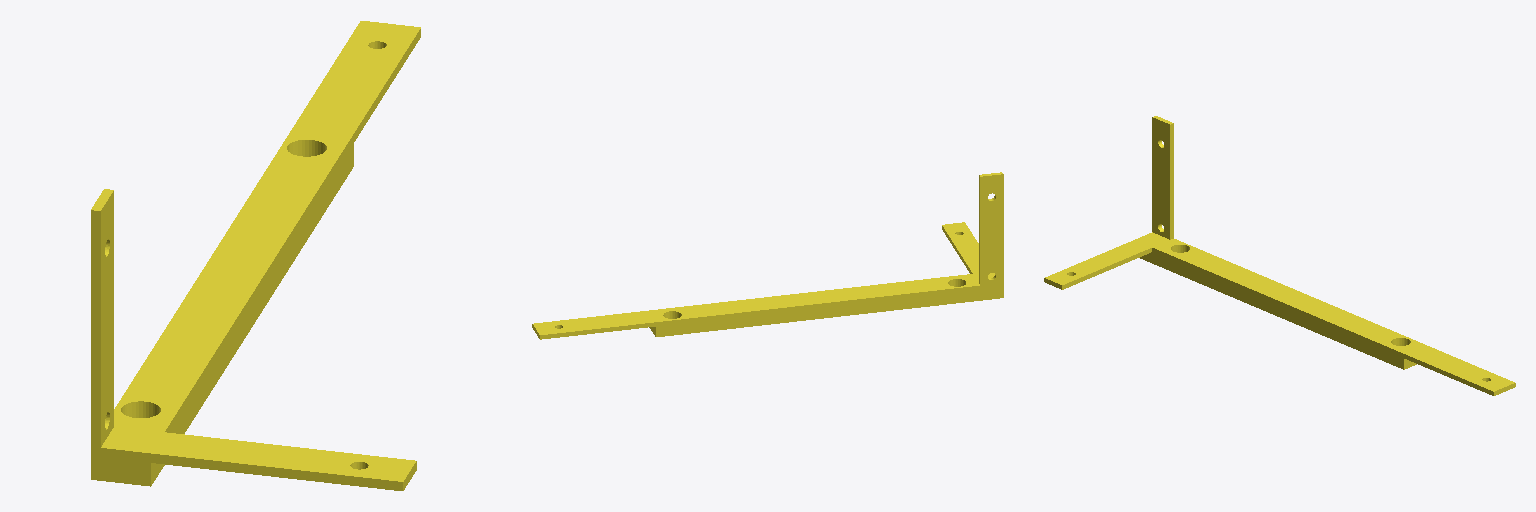
URDF robot description (lbr_iiwa):
<?xml version="1.0" ?>
<robot name="lbr_iiwa" xmlns:xacro="http://www.ros.org/wiki/xacro">
  <!-- Import Rviz colors -->
  <material name="Grey">
    <color rgba="0.2 0.2 0.2 1.0"/>
  </material>
  <material name="Orange">
    <color rgba="1.0 0.423529411765 0.0392156862745 1.0"/>
  </material>
  <material name="Blue">
  <color rgba="0.5 0.7 1.0 1.0"/>      
</material>

  <!--Import the lbr iiwa macro -->
  <!--Import Transmissions -->
  <!--Include Utilities -->
  <!--The following macros are adapted from the LWR 4 definitions of the RCPRG - https://github.com/RCPRG-ros-pkg/lwr_robot -->
  <!--Little helper macros to define the inertia matrix needed for links.-->
  <!--Cuboid-->
  <!--Cylinder: length is along the y-axis! -->
  <!--lbr-->
  <link name="base_link" />

  <joint name="base_link_to_chassis" type="fixed">
    <parent link="base_link"/>
    <child link="lbr_iiwa_link_0"/>
    <origin rpy="0 0 0.7854" xyz="-0.8839 0.3889 -0.42"/>
    <!-- RobotFrame rpy="0 0 0" xyz="-0.35 0.84 -0.42" -->
  </joint>


  <link name="lbr_iiwa_link_0">
    <visual>
      <origin rpy="0 0 0" xyz="0 0 0"/>
      <geometry>
        <mesh filename="meshes_kuka_iiwa/link_0.stl"/>
      </geometry>
      <material name="Grey"/>
    </visual>
    <collision>
      <origin rpy="0 0 0" xyz="0 0 0"/>
      <geometry>
        <mesh filename="meshes_kuka_iiwa/link_0.stl"/>
      </geometry>
    </collision>
  </link>

  <!-- joint between link_0 and link_1 -->
  <joint name="lbr_iiwa_joint_1" type="revolute">
    <parent link="lbr_iiwa_link_0"/>
    <child link="lbr_iiwa_link_1"/>
    <origin rpy="0 0 0" xyz="0 0 0.1575"/>
    <axis xyz="0 0 1"/>
    <limit effort="300" lower="-2.96705972839" upper="2.96705972839" velocity="10"/>
    <dynamics damping="0.5"/>
  </joint>

  <link name="lbr_iiwa_link_1">
    <inertial>
      <origin rpy="0 0 0" xyz="0 -0.03 0.12"/>
      <mass value="4"/>
      <inertia ixx="0.1" ixy="0" ixz="0" iyy="0.09" iyz="0" izz="0.02"/>
    </inertial>
    <visual>
      <origin rpy="0 0 0" xyz="0 0 0"/>
      <geometry>
        <mesh filename="meshes_kuka_iiwa/link_1.stl"/>
      </geometry>
      <material name="Blue"/>
    </visual>
    <collision>
      <origin rpy="0 0 0" xyz="0 0 0"/>
      <geometry>
        <mesh filename="meshes/link_1.stl"/>
      </geometry>
    </collision>
  </link>

  <!-- joint between link_1 and link_2 -->
  <joint name="lbr_iiwa_joint_2" type="revolute">
    <parent link="lbr_iiwa_link_1"/>
    <child link="lbr_iiwa_link_2"/>
    <origin rpy="1.57079632679 0 3.14159265359" xyz="0 0 0.2025"/>
    <axis xyz="0 0 1"/>
    <limit effort="300" lower="-2.09439510239" upper="2.09439510239" velocity="10"/>
    <dynamics damping="0.5"/>
  </joint>

  <link name="lbr_iiwa_link_2">
    <inertial>
      <origin rpy="0 0 0" xyz="0.0003 0.059 0.042"/>
      <mass value="4"/>
      <inertia ixx="0.05" ixy="0" ixz="0" iyy="0.018" iyz="0" izz="0.044"/>
    </inertial>
    <visual>
      <origin rpy="0 0 0" xyz="0 0 0"/>
      <geometry>
        <mesh filename="meshes_kuka_iiwa/link_2.stl"/>
      </geometry>
      <material name="Blue"/>
    </visual>
    <collision>
      <origin rpy="0 0 0" xyz="0 0 0"/>
      <geometry>
        <mesh filename="meshes/link_2.stl"/>
      </geometry>
    </collision>
  </link>

  <!-- joint between link_2 and link_3 -->
  <joint name="lbr_iiwa_joint_3" type="revolute">
    <parent link="lbr_iiwa_link_2"/>
    <child link="lbr_iiwa_link_3"/>
    <origin rpy="1.57079632679 0 3.14159265359" xyz="0 0.2045 0"/>
    <axis xyz="0 0 1"/>
    <limit effort="300" lower="-2.96705972839" upper="2.96705972839" velocity="10"/>
    <dynamics damping="0.5"/>
  </joint>

  <link name="lbr_iiwa_link_3">
    <inertial>
      <origin rpy="0 0 0" xyz="0 0.03 0.13"/>
      <mass value="3"/>
      <inertia ixx="0.08" ixy="0" ixz="0" iyy="0.075" iyz="0" izz="0.01"/>
    </inertial>
    <visual>
      <origin rpy="0 0 0" xyz="0 0 0"/>
      <geometry>
        <mesh filename="meshes_kuka_iiwa/link_3.stl"/>
      </geometry>
      <material name="Orange"/>
    </visual>
    <collision>
      <origin rpy="0 0 0" xyz="0 0 0"/>
      <geometry>
        <mesh filename="meshes_kuka_iiwa/link_3.stl"/>
      </geometry>
    </collision>
  </link>

  <!-- joint between link_3 and link_4 -->
  <joint name="lbr_iiwa_joint_4" type="revolute">
    <parent link="lbr_iiwa_link_3"/>
    <child link="lbr_iiwa_link_4"/>
    <origin rpy="1.57079632679 0 0" xyz="0 0 0.2155"/>
    <axis xyz="0 0 1"/>
    <limit effort="300" lower="-2.09439510239" upper="2.09439510239" velocity="10"/>
    <dynamics damping="0.5"/>
  </joint>

  <link name="lbr_iiwa_link_4">
    <inertial>
      <origin rpy="0 0 0" xyz="0 0.067 0.034"/>
      <mass value="2.7"/>
      <inertia ixx="0.03" ixy="0" ixz="0" iyy="0.01" iyz="0" izz="0.029"/>
    </inertial>
    <visual>
      <origin rpy="0 0 0" xyz="0 0 0"/>
      <geometry>
        <mesh filename="meshes_kuka_iiwa/link_4.stl"/>
      </geometry>
      <material name="Blue"/>
    </visual>
    <collision>
      <origin rpy="0 0 0" xyz="0 0 0"/>
      <geometry>
        <mesh filename="meshes_kuka_iiwa/link_4.stl"/>
      </geometry>
    </collision>
  </link>

  <!-- joint between link_4 and link_5 -->
  <joint name="lbr_iiwa_joint_5" type="revolute">
    <parent link="lbr_iiwa_link_4"/>
    <child link="lbr_iiwa_link_5"/>
    <origin rpy="-1.57079632679 3.14159265359 0" xyz="0 0.1845 0"/>
    <axis xyz="0 0 1"/>
    <limit effort="300" lower="-2.96705972839" upper="2.96705972839" velocity="10"/>
    <dynamics damping="0.5"/>
  </joint>

  <link name="lbr_iiwa_link_5">
    <inertial>
      <origin rpy="0 0 0" xyz="0.0001 0.021 0.076"/>
      <mass value="1.7"/>
      <inertia ixx="0.02" ixy="0" ixz="0" iyy="0.018" iyz="0" izz="0.005"/>
    </inertial>
    <visual>
      <origin rpy="0 0 0" xyz="0 0 0"/>
      <geometry>
        <mesh filename="meshes_kuka_iiwa/link_5.stl"/>
      </geometry>
      <material name="Blue"/>
    </visual>
    <collision>
      <origin rpy="0 0 0" xyz="0 0 0"/>
      <geometry>
        <mesh filename="meshes_kuka_iiwa/link_5.stl"/>
      </geometry>
    </collision>
  </link>

  <!-- joint between link_5 and link_6 -->
  <joint name="lbr_iiwa_joint_6" type="revolute">
    <parent link="lbr_iiwa_link_5"/>
    <child link="lbr_iiwa_link_6"/>
    <origin rpy="1.57079632679 0 0" xyz="0 0 0.2155"/>
    <axis xyz="0 0 1"/>
    <limit effort="300" lower="-1.79439510239" upper="1.79439510239" velocity="10"/>
    <dynamics damping="0.5"/>
  </joint>

  <link name="lbr_iiwa_link_6">
    <inertial>
      <origin rpy="0 0 0" xyz="0 0.0006 0.0004"/>
      <mass value="1.8"/>
      <inertia ixx="0.005" ixy="0" ixz="0" iyy="0.0036" iyz="0" izz="0.0047"/>
    </inertial>
    <visual>
      <origin rpy="0 0 0" xyz="0 0 0"/>
      <geometry>
        <mesh filename="meshes_kuka_iiwa/link_6.stl"/>
      </geometry>
      <material name="Orange"/>
    </visual>
    <collision>
      <origin rpy="0 0 0" xyz="0 0 0"/>
      <geometry>
        <mesh filename="meshes_kuka_iiwa/link_6.stl"/>
      </geometry>
    </collision>
  </link>

  <!-- joint between link_6 and link_7 -->
  <joint name="lbr_iiwa_joint_7" type="revolute">
    <parent link="lbr_iiwa_link_6"/>
    <child link="lbr_iiwa_link_7"/>
    <origin rpy="-1.57079632679 3.14159265359 0" xyz="0 0.081 0"/>
    <axis xyz="0 0 1"/>
    <limit effort="300" lower="-3.05432619099" upper="3.05432619099" velocity="10"/>
    <dynamics damping="0.5"/>
  </joint>

  <link name="lbr_iiwa_link_7">
    <inertial>
      <origin rpy="0 0 0" xyz="0 0 0.02"/>
      <mass value="0.3"/>
      <inertia ixx="0.001" ixy="0" ixz="0" iyy="0.001" iyz="0" izz="0.001"/>
    </inertial>
    <visual>
      <origin rpy="0 0 0" xyz="0 0 0"/>
      <geometry>
        <mesh filename="meshes_kuka_iiwa/link_7.stl"/>
      </geometry>
      <material name="Grey"/>
    </visual>
    <collision>
      <origin rpy="0 0 0" xyz="0 0 0"/>
      <geometry>
        <mesh filename="meshes_kuka_iiwa/link_7.stl"/>
      </geometry>
    </collision>
  </link>

  
  <!-- Add flange tip fixed joint where the magnet based is attached to. -->
  <joint name="flange_tip" type="fixed">
    <parent link="lbr_iiwa_link_7" />
    <child link = "magnet_base" />
    <origin xyz="0.00 0.00 0.045" rpy="0 0 0" />
  </joint>

  <!-- Add base of the magnet case -->
  <link name="magnet_base">
    <visual>
      <origin xyz="0 0 0.0" rpy="0 0 3.1415926535"/>
      <geometry>
        <mesh filename="meshes_kuka_iiwa/magnet_holder_spacer.STL"/>
        <!--  <cylinder length="0.1275" radius="0.020"/> -->
      </geometry>
      <material name="White"/>
    </visual>
    <collision>
      <origin xyz="0 0 0" rpy="0 0 3.1415926535"/>
      <geometry>
        <mesh filename="meshes_kuka_iiwa/magnet_holder_spacer.STL"/> -->
        <!--  <cylinder length="0.1275" radius="0.020"/> -->
      </geometry>
      <material name="White"/>
    </collision>
    <inertial>
      <mass value="1"/>
      <inertia ixx="0" ixy="0" ixz="0" iyy="0" iyz="0" izz="0"/>
    </inertial> 
  </link>

	<!-- Add a dummy joint at the center of magnet -->
  <joint name="magnet_center" type="fixed">
    <parent link="magnet_base" />
    <child link = "magnet_center_link" /> <!-- this is center of magnet! -->
    <origin xyz="0.00 0.00 0.0818" rpy="0 1.57 0" />
  </joint>
  <link name="magnet_center_link">
    <inertial>
      <mass value="0.01"/>
      <inertia ixx="1" ixy="0" ixz="0" iyy="1" iyz="0" izz="1"/>
    </inertial>
  </link>


	<!-- Adding Optical Tracker Tool -->
  <joint name="optitracktool" type="fixed">
    <parent link="magnet_base" />
    <child link = "optitracktool_link" />
    <origin xyz="-0.07547 -0.06187 0.0525" rpy="0 0 0" />
  </joint>

  <!-- Add base of the magnet case -->
  <link name="optitracktool_link">
    <visual>
      <origin xyz="0 0 0.0" rpy="0 0 0"/>
      <geometry>
        <mesh filename="meshes_kuka_iiwa/EPM_optitrack_v3.STL"/>
        <!--  <cylinder length="0.1275" radius="0.020"/> -->
      </geometry>
      <material name="White"/>
    </visual>
    <collision>
      <origin xyz="0 0 0" rpy="0 0 0"/>
      <geometry>
        <mesh filename="meshes_kuka_iiwa/EPM_optitrack_v3.STL"/> -->
        <!--  <cylinder length="0.1275" radius="0.020"/> -->
      </geometry>
      <material name="White"/>
    </collision>
    <inertial>
      <mass value="1"/>
      <inertia ixx="0" ixy="0" ixz="0" iyy="0" iyz="0" izz="0"/>
    </inertial> 
  </link>
	
  


</robot>

--- Render facts (derived) ---
The picture shows the robot from 3 angles, left to right: view 1: azimuth 30°, elevation 25°; view 2: azimuth 150°, elevation 25°; view 3: azimuth 270°, elevation 25°; orthographic projection.
Model lbr_iiwa with 12 links and 11 joints (7 revolute, 4 fixed), rooted at base_link, posed all joints at 0.
Visible links, largest first — view 1: optitracktool_link; view 2: optitracktool_link; view 3: optitracktool_link.
Link boxes in pixels (left/top/right/bottom): optitracktool_link: left=91, top=21, right=420, bottom=490; optitracktool_link: left=532, top=172, right=1003, bottom=339; optitracktool_link: left=1044, top=116, right=1515, bottom=395.
Size in the robot's own frame: 0.1499 by 0.1853 by 0.057 metres.
1 mesh visuals loaded from 10 distinct referenced files (1 binary STL); not drawn: 9 (reference not matched to a file when rendering).